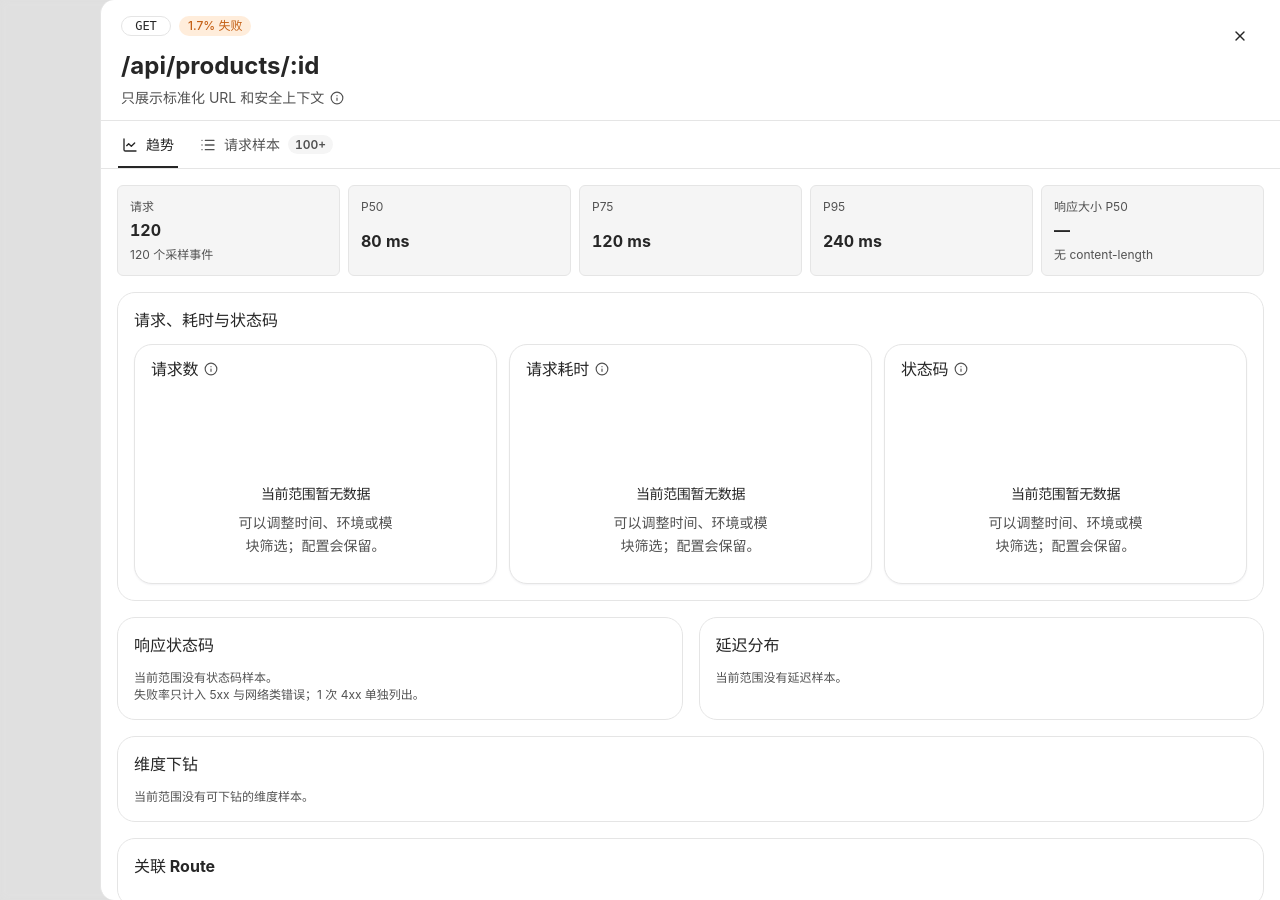
Test case: ApiDetail › opens on the trend and moves to the individual requests under 请求样本
Expected: the heading "请求数" is shown, top-left (151, 358), bottom-right (198, 380)
Click the tab "请求样本 100+". click: (267, 144)
box: top-left (195, 121), bottom-right (338, 168)
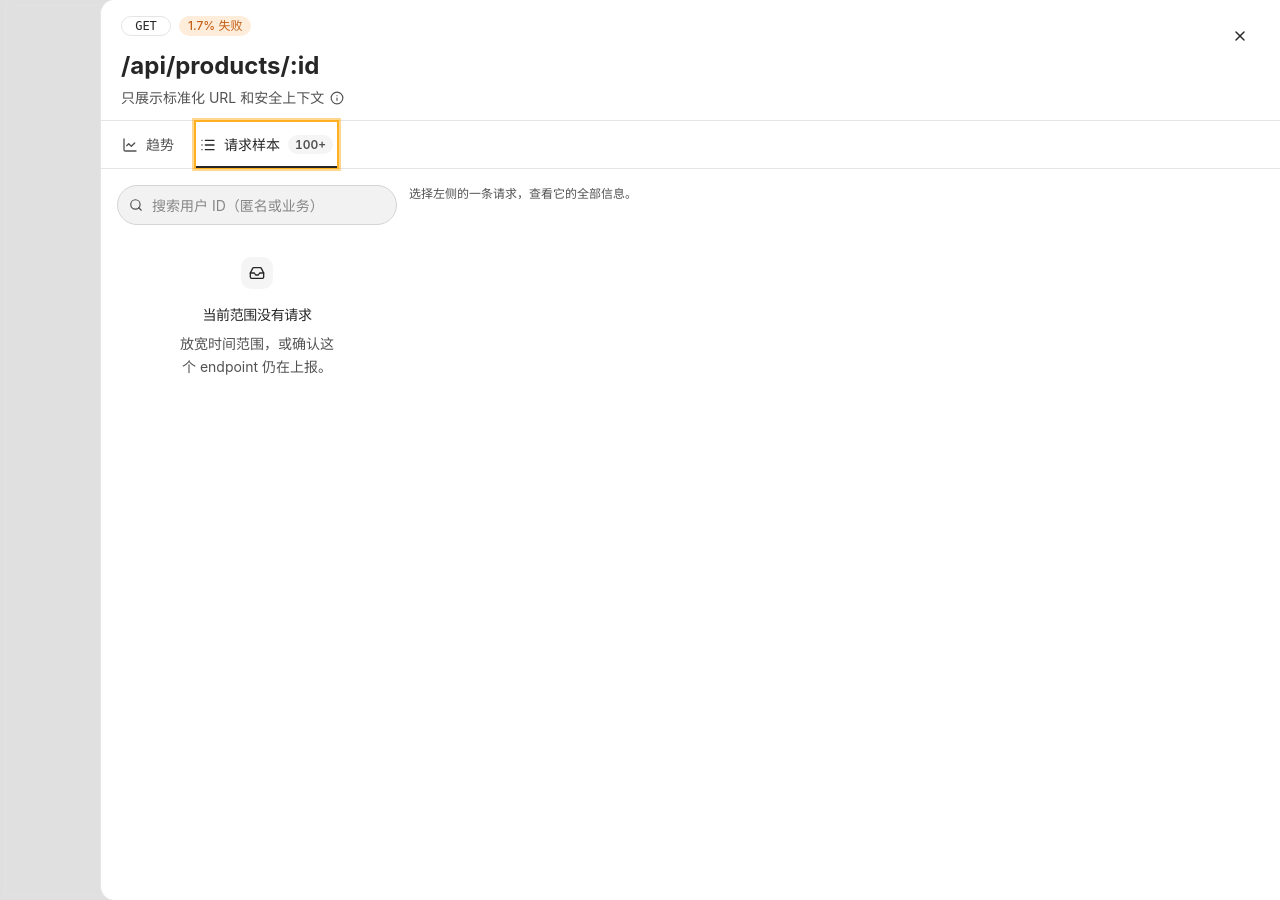
Now the search field named "按用户 ID 搜索请求" is shown, box top-left (117, 185), bottom-right (397, 225)
